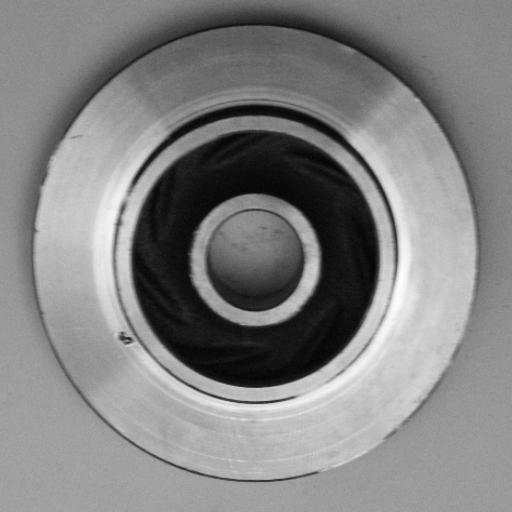crack: (113, 319, 142, 355)
scratch: (104, 178, 142, 240)
unpolished_casting: (29, 24, 482, 487)
